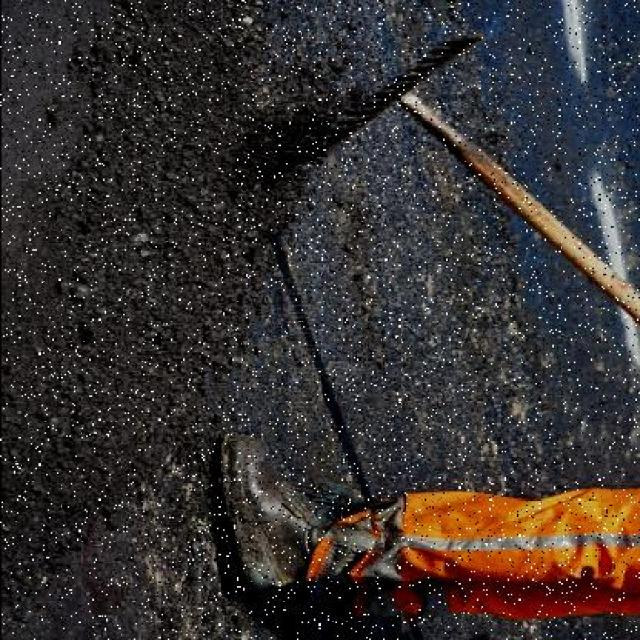shoes: (204, 426, 341, 602)
